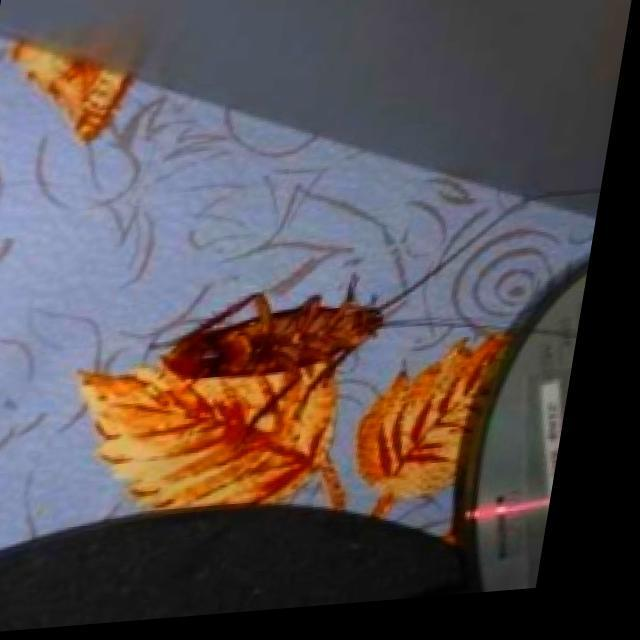cockroach: (149, 246, 473, 427)
